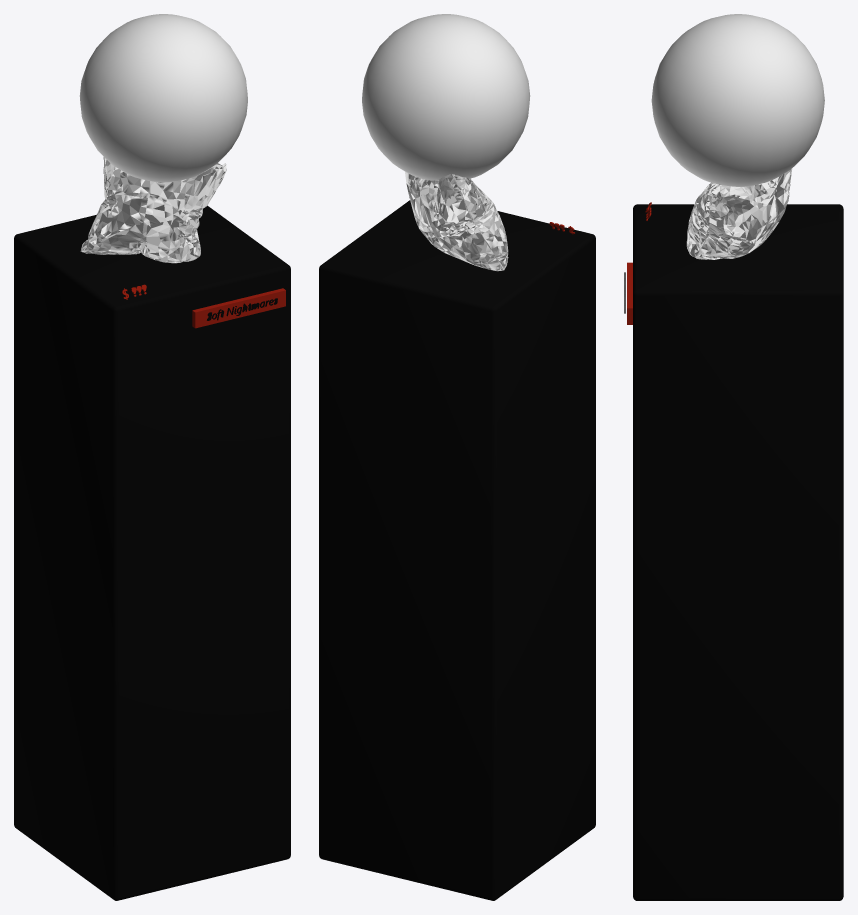
File: Art3.fbx
The picture shows the model from 3 angles, left to right: view 1: azimuth 30°, elevation 25°; view 2: azimuth 150°, elevation 25°; view 3: azimuth 270°, elevation 25°; orthographic projection. The views are drawn at different scales.
Visible parts, largest first — view 1: Plinth2_1, Sphere, throw_pillows_01_pillow01_fracturepart2, throw_pillows_01_pillow01_fracturepart1, banana_name_1, throw_pillows_01_pillow01_fracturepart10, throw_pillows_01_pillow01_fracturepart13, throw_pillows_01_pillow01_fracturepart7, throw_pillows_01_pillow01_fracturepart19, throw_pillows_01_pillow01_fracturepart4; view 2: Plinth2_1, Sphere, throw_pillows_01_pillow01_fracturepart9, throw_pillows_01_pillow01_fracturepart16, throw_pillows_01_pillow01_fracturepart11, throw_pillows_01_pillow01_fracturepart1, throw_pillows_01_pillow01_fracturepart3, throw_pillows_01_pillow01_fracturepart20; view 3: Plinth2_1, Sphere, throw_pillows_01_pillow01_fracturepart18, throw_pillows_01_pillow01_fracturepart14, throw_pillows_01_pillow01_fracturepart6, throw_pillows_01_pillow01_fracturepart2, throw_pillows_01_pillow01_fracturepart8.
Boxes of the visible parts, x1,y1,x2,y2 form: Plinth2_1: [14, 205, 290, 900]; Sphere: [79, 14, 247, 182]; throw_pillows_01_pillow01_fracturepart2: [150, 163, 226, 216]; throw_pillows_01_pillow01_fracturepart1: [96, 195, 147, 238]; banana_name_1: [192, 288, 285, 328]; throw_pillows_01_pillow01_fracturepart10: [146, 220, 194, 258]; throw_pillows_01_pillow01_fracturepart13: [102, 222, 149, 256]; throw_pillows_01_pillow01_fracturepart7: [144, 195, 199, 227]; throw_pillows_01_pillow01_fracturepart19: [106, 166, 150, 197]; throw_pillows_01_pillow01_fracturepart4: [153, 227, 200, 263]; Plinth2_1: [319, 200, 595, 900]; Sphere: [362, 14, 530, 180]; throw_pillows_01_pillow01_fracturepart9: [451, 231, 508, 271]; throw_pillows_01_pillow01_fracturepart16: [439, 183, 484, 234]; throw_pillows_01_pillow01_fracturepart11: [422, 204, 471, 248]; throw_pillows_01_pillow01_fracturepart1: [479, 195, 506, 239]; throw_pillows_01_pillow01_fracturepart3: [421, 179, 443, 212]; throw_pillows_01_pillow01_fracturepart20: [437, 174, 472, 200]; Plinth2_1: [633, 204, 843, 900]; Sphere: [651, 14, 824, 186]; throw_pillows_01_pillow01_fracturepart18: [702, 195, 772, 240]; throw_pillows_01_pillow01_fracturepart14: [699, 227, 745, 259]; throw_pillows_01_pillow01_fracturepart6: [730, 179, 776, 204]; throw_pillows_01_pillow01_fracturepart2: [696, 182, 730, 222]; throw_pillows_01_pillow01_fracturepart8: [724, 215, 773, 254].
Size of the model in its own units: 25 by 110 by 26.01.
Materials: 3 (2 with a texture image).
